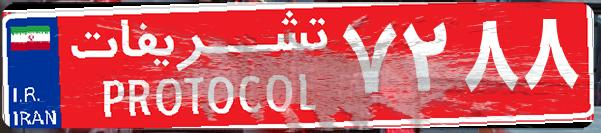2: (400, 20, 460, 115)
7: (340, 20, 400, 115)
8: (460, 20, 520, 115), (520, 20, 580, 115)
تشریفات: (60, 8, 340, 125)
